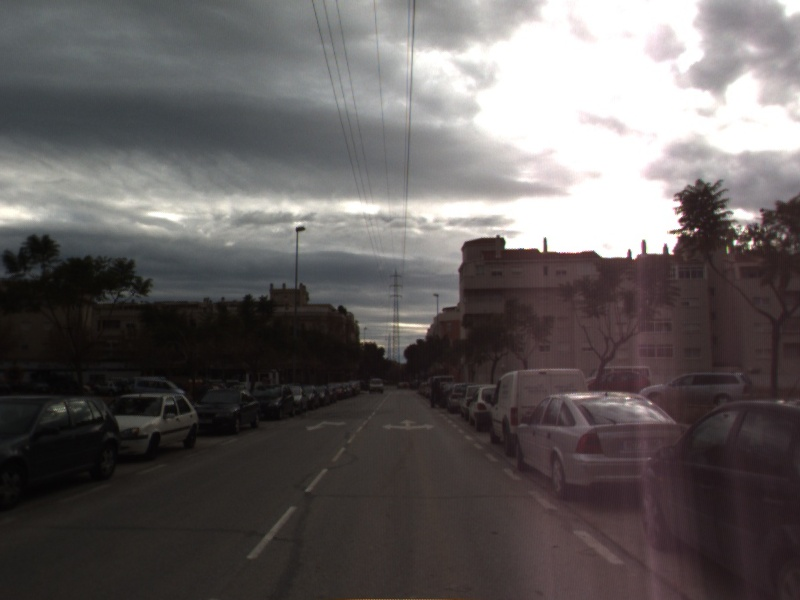STRAIGHT_LEFT_RIGHT: (380, 416, 437, 432)
